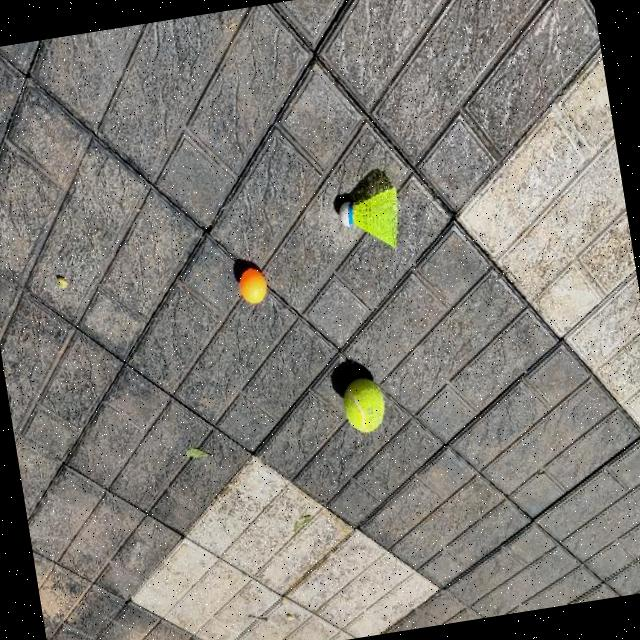ping-pong-ball: (238, 268, 270, 308)
